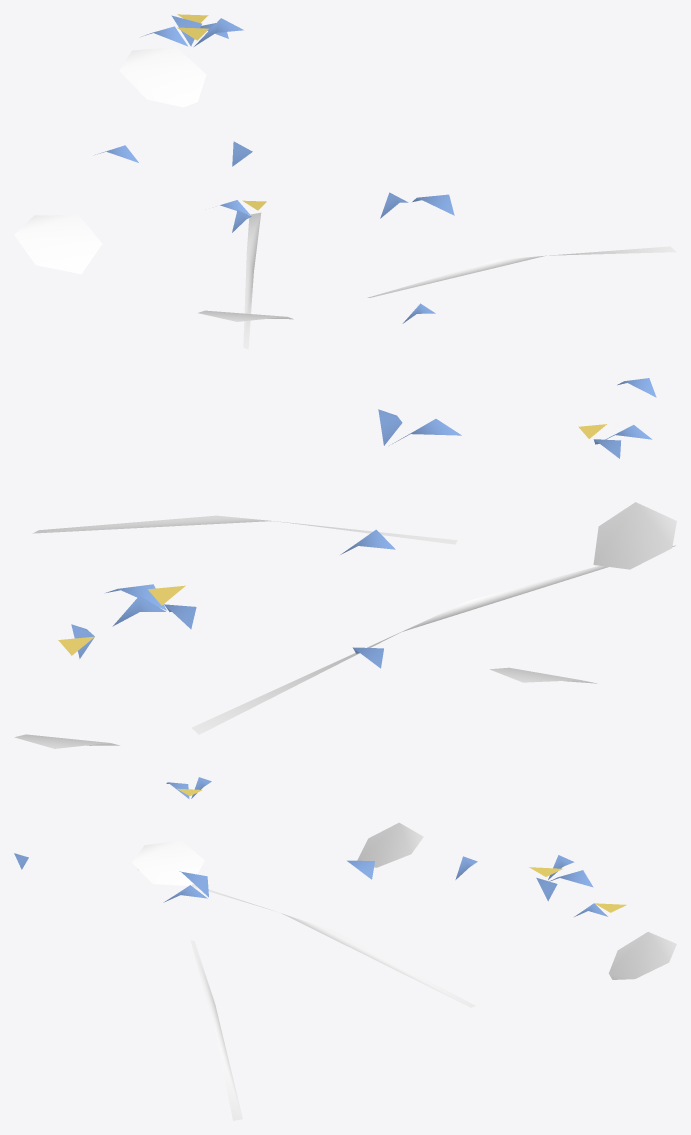
File: TinyBlueFlowerClump_LOD2.glb
3 renders of one model, top to bottom at view 1: azimuth 30°, elevation 25°; view 2: azimuth 150°, elevation 25°; view 3: azimuth 270°, elevation 25°, orthographic. The views are drawn at different scales.
Parts seen in each view (by area): view 1: TinyBlueFlowerClump_LOD2; view 2: TinyBlueFlowerClump_LOD2; view 3: TinyBlueFlowerClump_LOD2.
Part boxes in pixels (x1,y1,x2,y2): TinyBlueFlowerClump_LOD2: (14,14,676,349); TinyBlueFlowerClump_LOD2: (14,378,676,748); TinyBlueFlowerClump_LOD2: (14,777,676,1120).
Size of the model in its own units: 0.6609 by 0.1999 by 0.8058.
